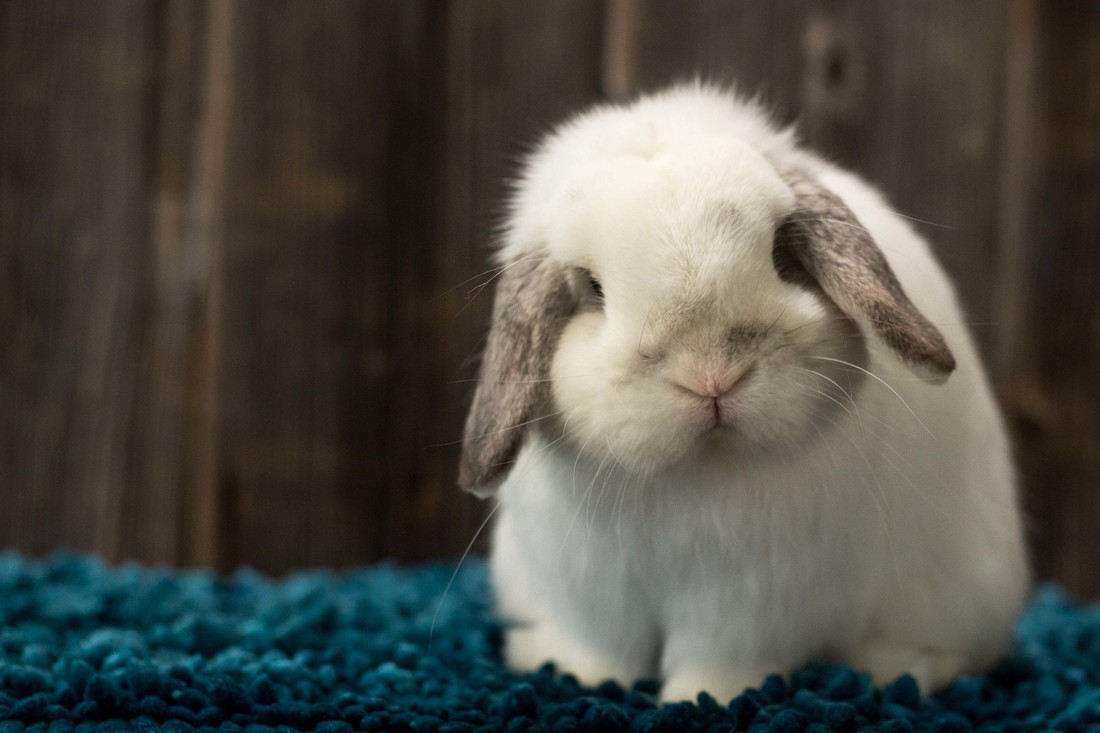bunny: (433, 59, 1057, 707)
